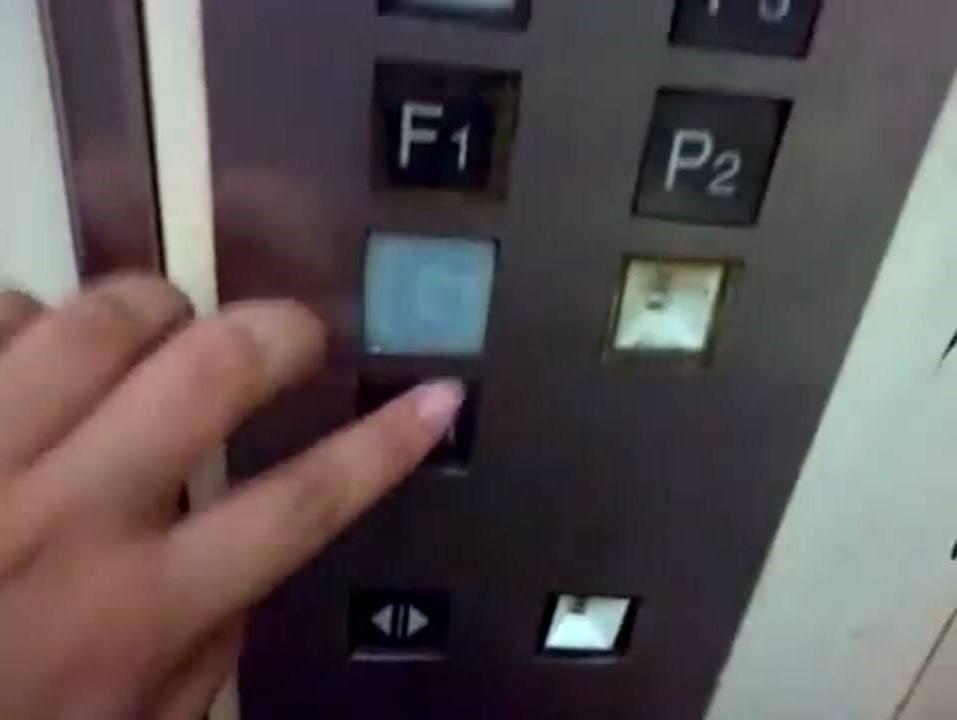F1: (366, 53, 526, 207)
P2: (631, 82, 798, 231)
blur: (358, 227, 501, 360), (601, 249, 736, 375), (530, 585, 642, 667)
open: (340, 577, 456, 664)
